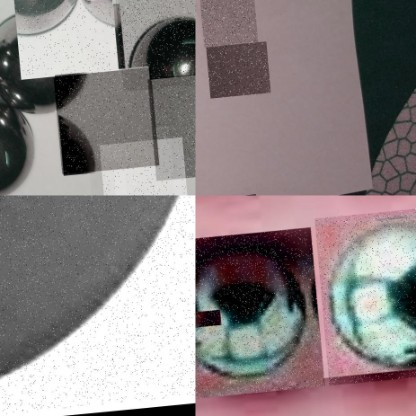ironball: (0, 195, 195, 415), (195, 230, 318, 399), (310, 209, 415, 389), (50, 71, 154, 177), (9, 0, 115, 81), (113, 0, 195, 95), (143, 75, 195, 185), (94, 142, 182, 195), (203, 46, 267, 101), (197, 0, 256, 51)
